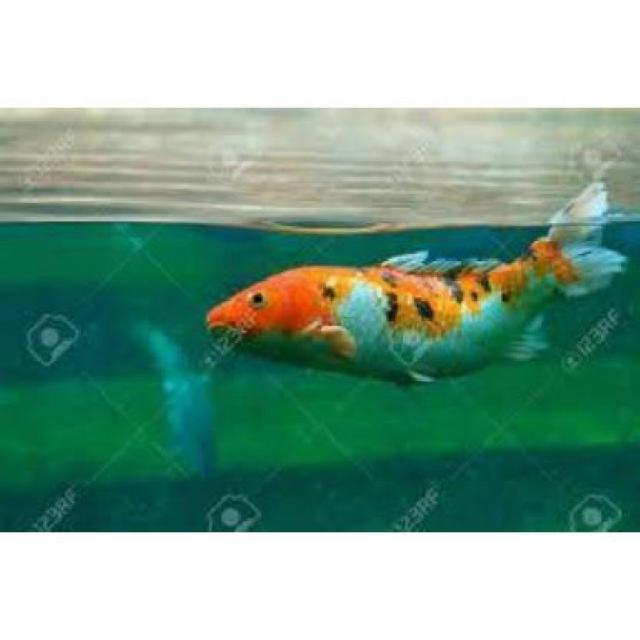ikan-mas: (198, 172, 627, 385)
